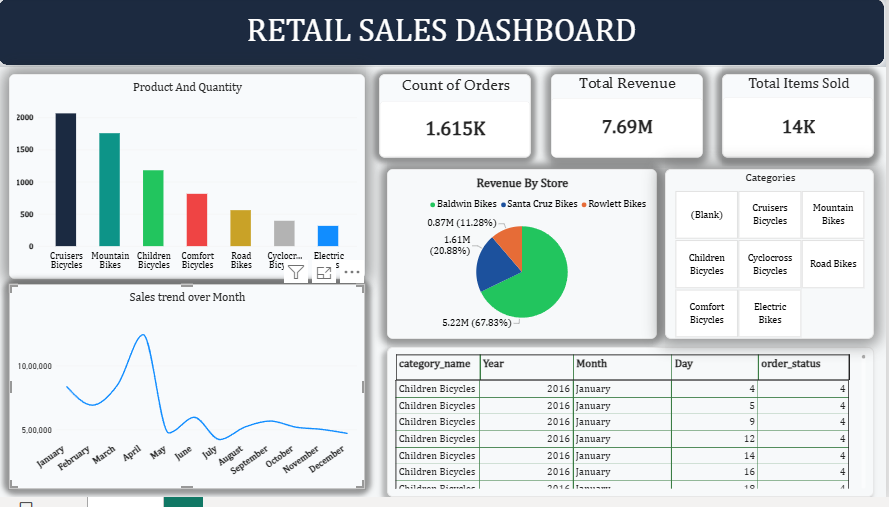

What the dashboard file says about the page in this screenshot:
{"tool":"powerbi","page":{"name":"Page 1","canvas":[1920,1080],"ordinal":0},"visuals":[{"type":"shape","box":[0,0,1920.2,151.2],"z":0},{"type":"clusteredColumnChart","title":"Product And Quantity","fields":{"Category":["order_items.category_name"],"Y":["Sum(order_items.quantity)"]},"box":[25.9,166.3,769,442.8],"z":1000},{"type":"lineChart","title":"Sales trend over Month","fields":{"Category":["orders.required_date.Variation.Date Hierarchy.Month"],"Y":["Sum(order_items.total_price)"]},"box":[26,619,769,443],"z":2000},{"type":"cardVisual","title":"Count of Orders","fields":{"Data":["CountNonNull(orders.order_id)"]},"box":[825.1,166.3,328.3,181.4],"z":3000},{"type":"cardVisual","title":"Total Revenue","fields":{"Data":["Sum(order_items.total_price)"]},"box":[1196.6,166.3,328.3,181.4],"z":4000},{"type":"cardVisual","title":"Total Items Sold","fields":{"Data":["Sum(stocks.quantity)"]},"box":[1566,166.3,328.3,181.4],"z":5000},{"type":"pieChart","title":"Revenue By Store","fields":{"Category":["stores.store_name"],"Y":["Sum(order_items.total_price)"]},"box":[842.4,371.5,583.2,367.2],"z":6000},{"type":"tableEx","fields":{"Values":["order_items.category_name","orders.order_date.Variation.Date Hierarchy.Year","orders.order_date.Variation.Date Hierarchy.Month","orders.order_date.Variation.Date Hierarchy.Day","orders.order_status"]},"box":[842.4,756,1051.9,324],"z":7000},{"type":"slicer","title":"Categories","fields":{"Values":["categories.category_name"]},"box":[1442.9,371.5,451.4,367.2],"z":7001}]}

Visuals, with their boxes in screenshot pixels (x1, y1, x2, y2), scaled from the page's 1920x1080 canvas onto the 889x507 screenshot:
shape: (left=0, top=0, right=888, bottom=71)
"Product And Quantity" clusteredColumnChart: (left=12, top=78, right=368, bottom=286)
"Sales trend over Month" lineChart: (left=12, top=291, right=368, bottom=499)
"Count of Orders" cardVisual: (left=382, top=78, right=534, bottom=163)
"Total Revenue" cardVisual: (left=554, top=78, right=706, bottom=163)
"Total Items Sold" cardVisual: (left=725, top=78, right=877, bottom=163)
"Revenue By Store" pieChart: (left=390, top=174, right=660, bottom=347)
tableEx - order_items.category_name x orders.order_date.Variation.Date Hierarchy.Year: (left=390, top=355, right=877, bottom=506)
"Categories" slicer: (left=668, top=174, right=877, bottom=347)
